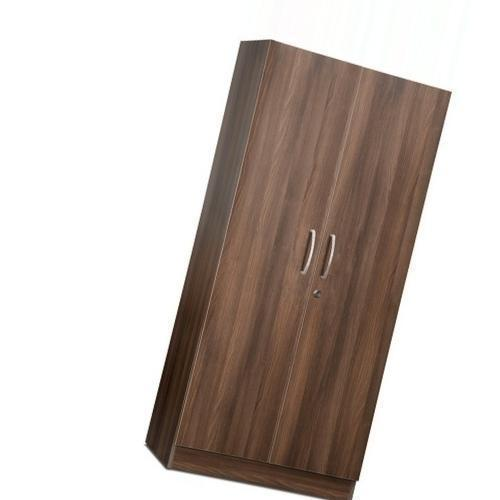Armario: (137, 38, 452, 496)
